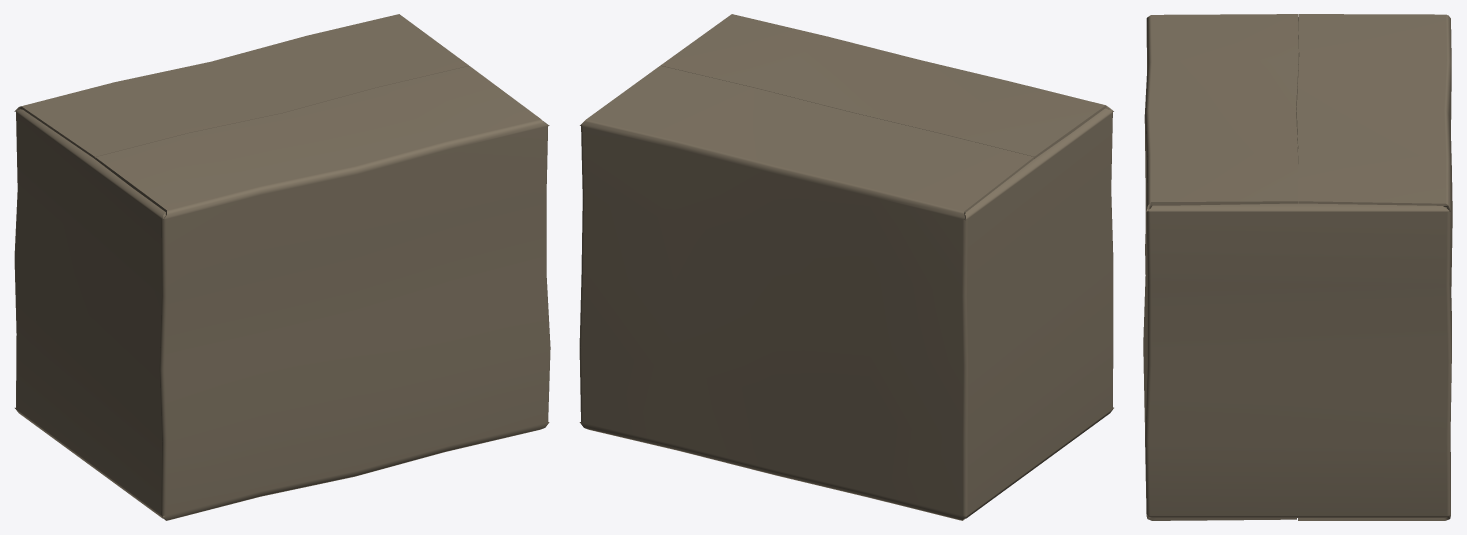
The model's file is close_box.fbx.
3 renders of one model, left to right at view 1: azimuth 30°, elevation 25°; view 2: azimuth 150°, elevation 25°; view 3: azimuth 270°, elevation 25°, orthographic. The views are drawn at different scales.
Parts seen in each view (by area): view 1: close_box; view 2: close_box; view 3: close_box.
Part boxes in pixels (x1,y1,x2,y2): close_box: (14, 14, 550, 520); close_box: (579, 14, 1113, 520); close_box: (1143, 14, 1452, 520).
Bounding box in the file's own units: 1.38 × 1.06 × 0.9234.
